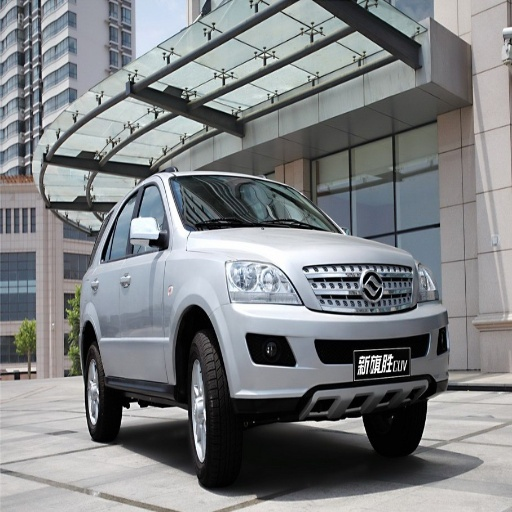back_left_light: (92, 185, 142, 372)
back_right_light: (220, 266, 448, 420)
front_bumper: (171, 176, 338, 231)
front_left_light: (120, 179, 168, 377)
front_right_door: (226, 259, 302, 304)
front_right_light: (226, 227, 416, 268)
trunk: (185, 331, 244, 488), (83, 343, 120, 442), (364, 401, 424, 457)
